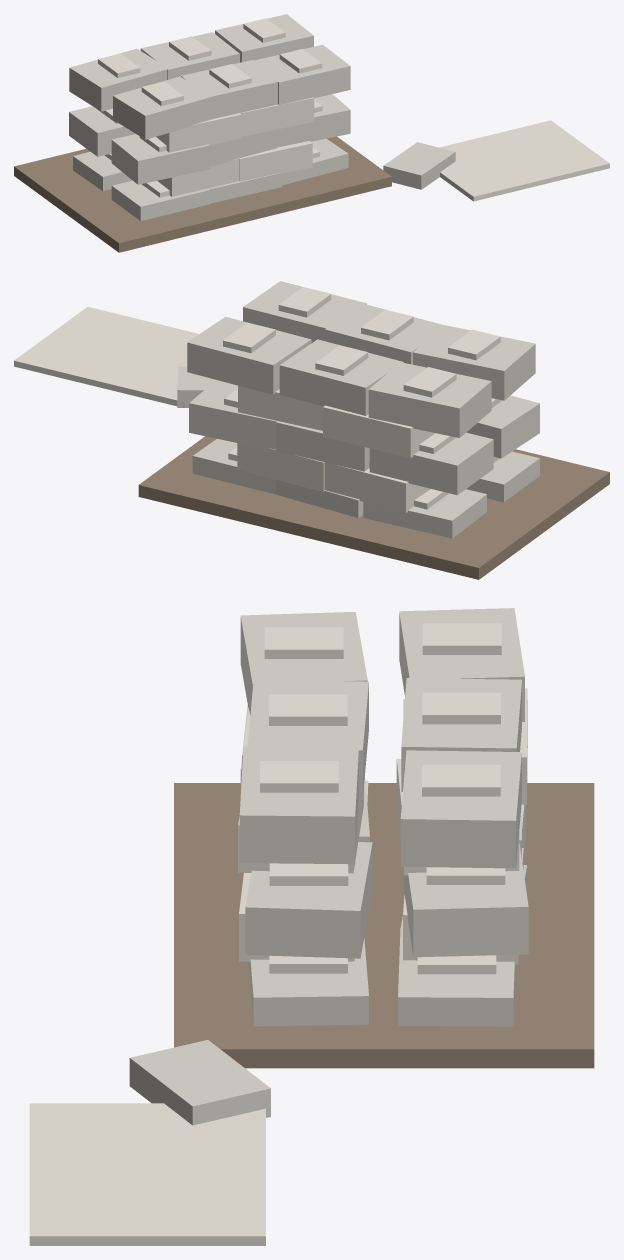
Rendered from cement-bags.glb.
The picture shows the model from 3 angles, top to bottom: view 1: azimuth 30°, elevation 25°; view 2: azimuth 150°, elevation 25°; view 3: azimuth 270°, elevation 25°; orthographic projection. The views are drawn at different scales.
Parts seen in each view (by area): view 1: sack, render, wood; view 2: sack, render, wood; view 3: sack, wood, render.
Boxes of the visible parts, x1=… form: sack: x1=69, y1=14, x2=455, y2=220; render: x1=97, y1=18, x2=609, y2=201; wood: x1=14, y1=136, x2=391, y2=252; sack: x1=177, y1=281, x2=539, y2=538; render: x1=14, y1=287, x2=502, y2=512; wood: x1=138, y1=436, x2=609, y2=579; sack: x1=129, y1=608, x2=528, y2=1125; wood: x1=174, y1=783, x2=594, y2=1068; render: x1=29, y1=623, x2=527, y2=1245.
Bounding box in the file's own units: 4 × 1 × 2.15.
